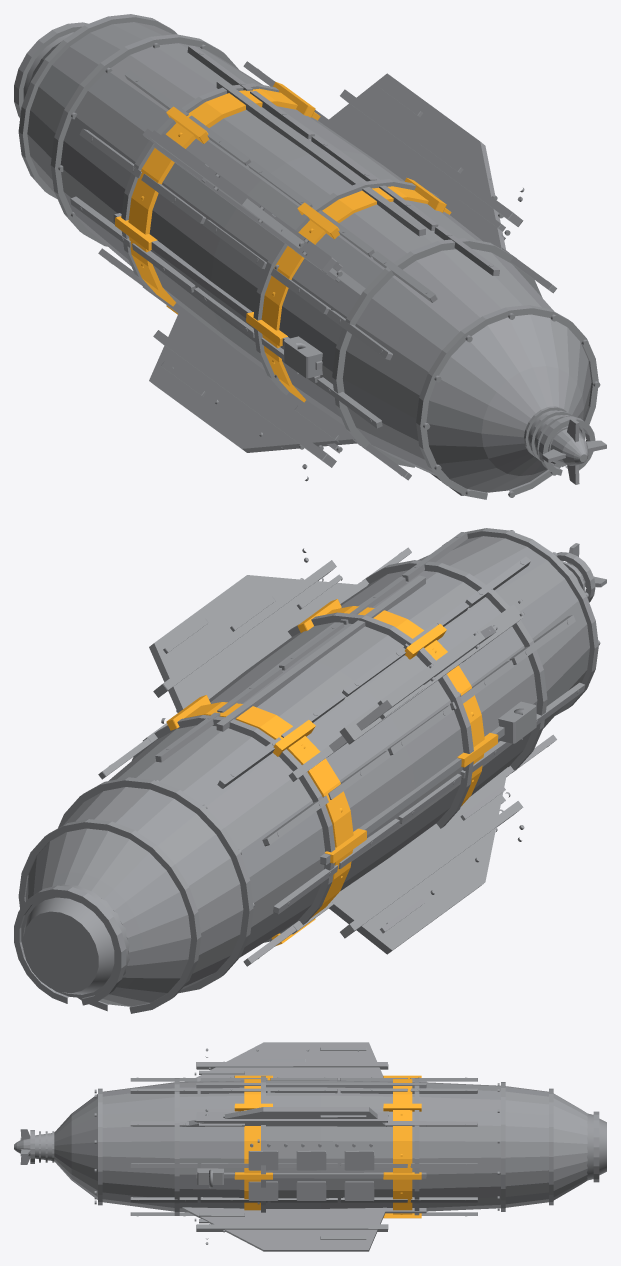
The model's file is streak_nuke.glb.
3 renders of one model, top to bottom at view 1: azimuth 30°, elevation 25°; view 2: azimuth 150°, elevation 25°; view 3: azimuth 270°, elevation 25°, orthographic. The views are drawn at different scales.
Parts seen in each view (by area): view 1: streak_nuke__streak_nuke, streak_nuke__band; view 2: streak_nuke__streak_nuke, streak_nuke__band; view 3: streak_nuke__streak_nuke, streak_nuke__band.
Part boxes in pixels (x1,y1,x2,y2): streak_nuke__streak_nuke: (14, 14, 606, 499); streak_nuke__band: (115, 81, 451, 402); streak_nuke__streak_nuke: (14, 528, 606, 1013); streak_nuke__band: (166, 599, 498, 946); streak_nuke__streak_nuke: (14, 1042, 606, 1251); streak_nuke__band: (234, 1075, 421, 1218).
Bounding box in the file's own units: 0.3427 × 0.3323 × 1.24.
